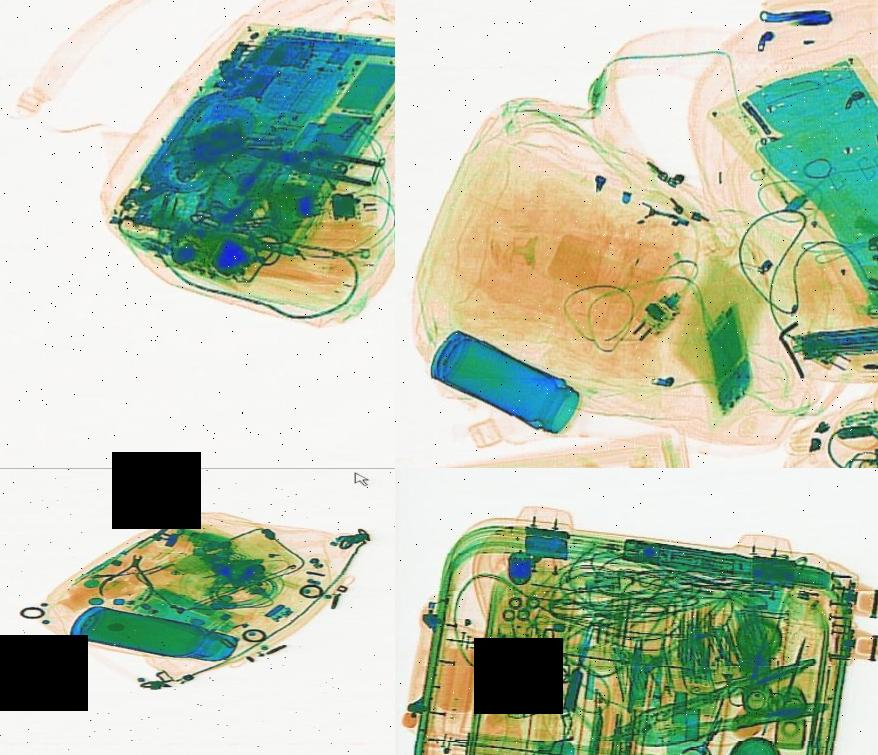Pliers: (234, 130, 381, 187), (96, 550, 163, 602)
Scissors: (762, 632, 820, 718), (728, 637, 778, 711)
